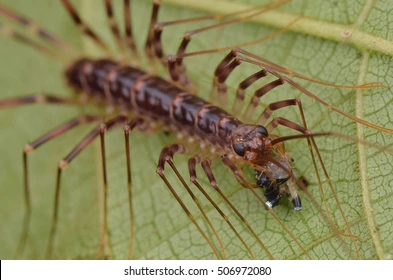centipede: (3, 3, 370, 241)
